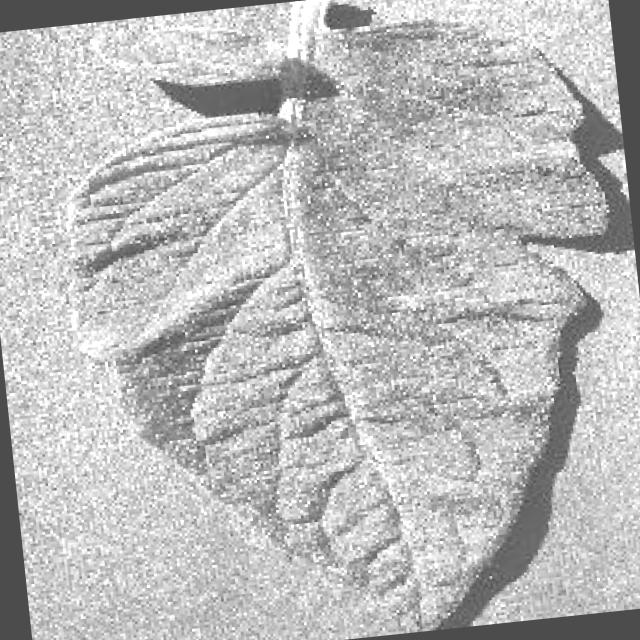healthy: (62, 0, 607, 632)
